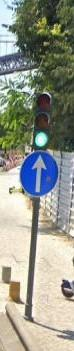green_light: (33, 92, 51, 150)
